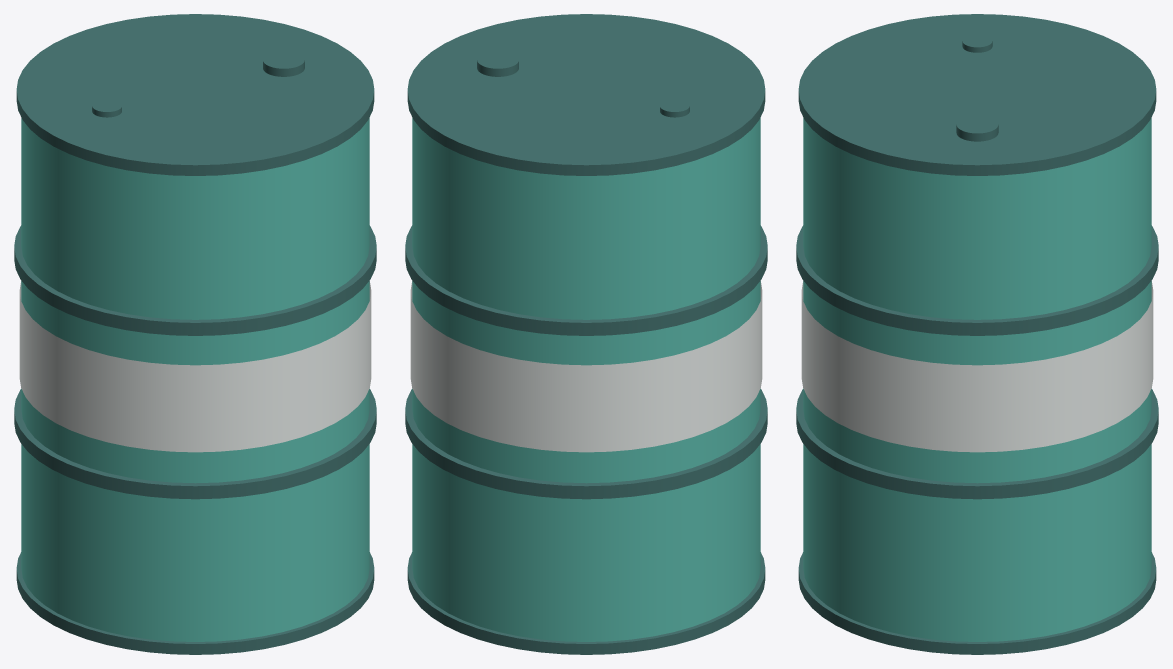
File: ppe-2-drum.glb
3 views of the same model, side by side, from view 1: azimuth 30°, elevation 25°; view 2: azimuth 150°, elevation 25°; view 3: azimuth 270°, elevation 25° (orthographic).
Visible parts, largest first — view 1: Chemical drum; view 2: Chemical drum; view 3: Chemical drum.
Part boxes in pixels (x1,y1,x2,y2): Chemical drum: [14, 14, 376, 654]; Chemical drum: [405, 14, 767, 654]; Chemical drum: [796, 14, 1158, 654].
Size of the model in its own units: 0.604 by 0.915 by 0.604.
